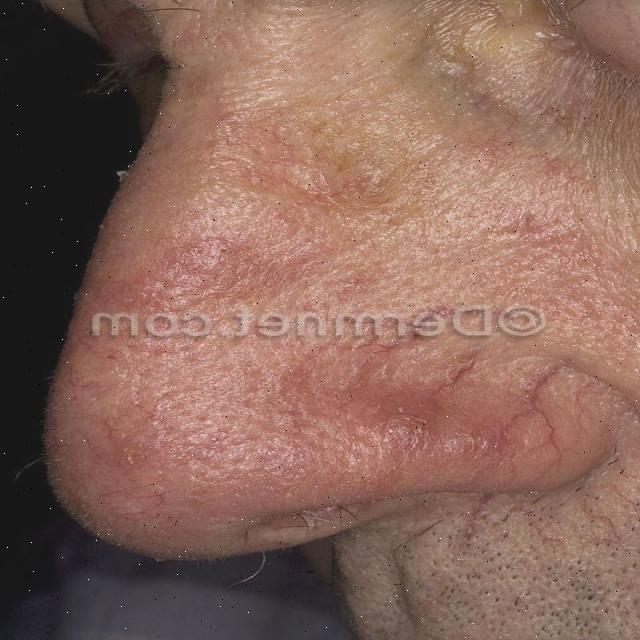images: (21, 0, 639, 639)
